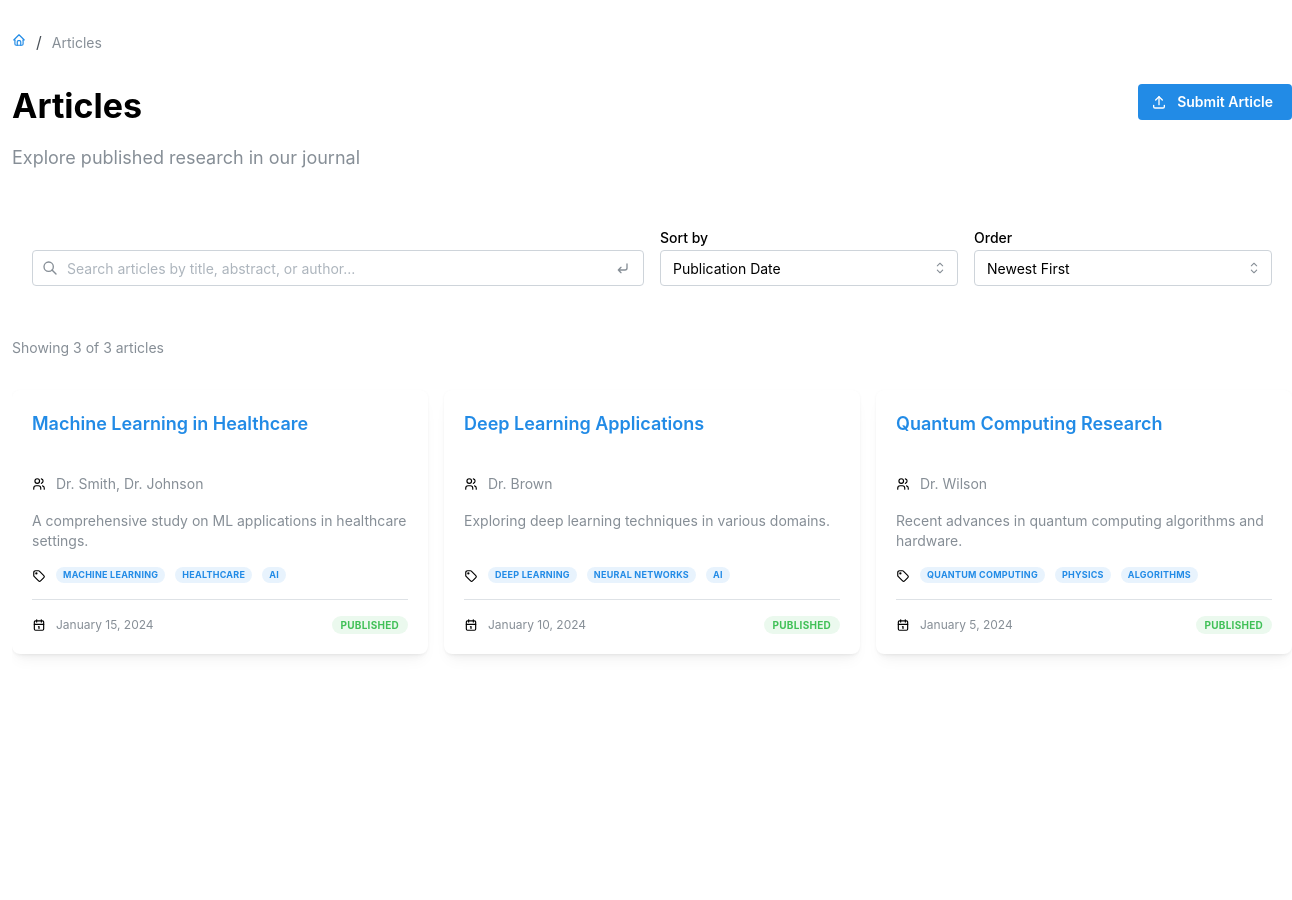
Test: Articles Page - Search Functionality › Search Results Display › should show "no articles found" when search returns empty results
The image size is (1292, 900).
Expected: the link "Machine Learning in Healthcare" is shown, x1=32 y1=413 x2=308 y2=434
Type "nonexistent term" into the field with placeholder "Search articles by title, abstract, or author...".
click(338, 268); type("nonexistent term")  # box x1=32 y1=250 x2=644 y2=286
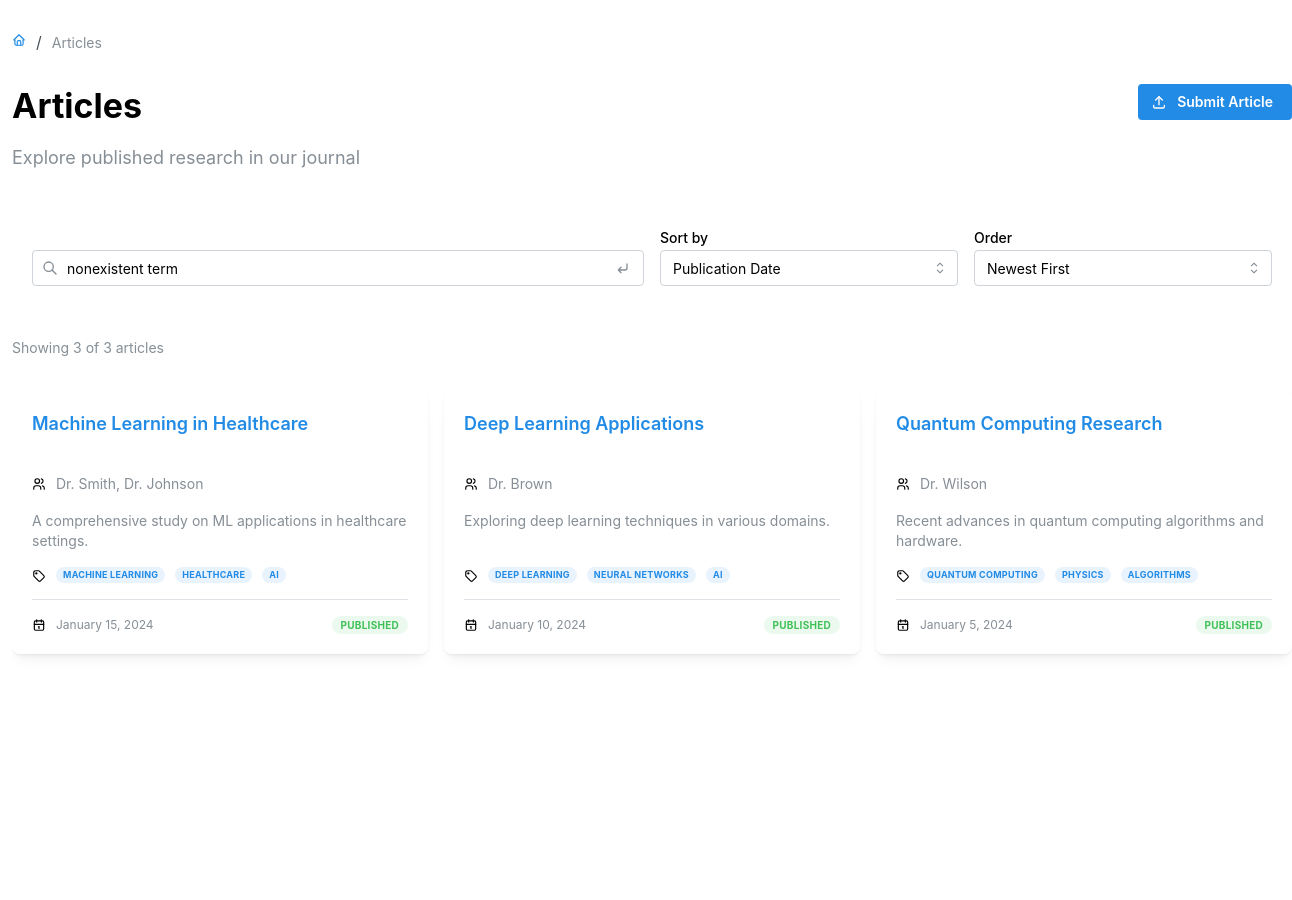
Submit the form with placeholder "Search articles by title, abstract, or author...", box x1=32 y1=217 x2=1272 y2=294
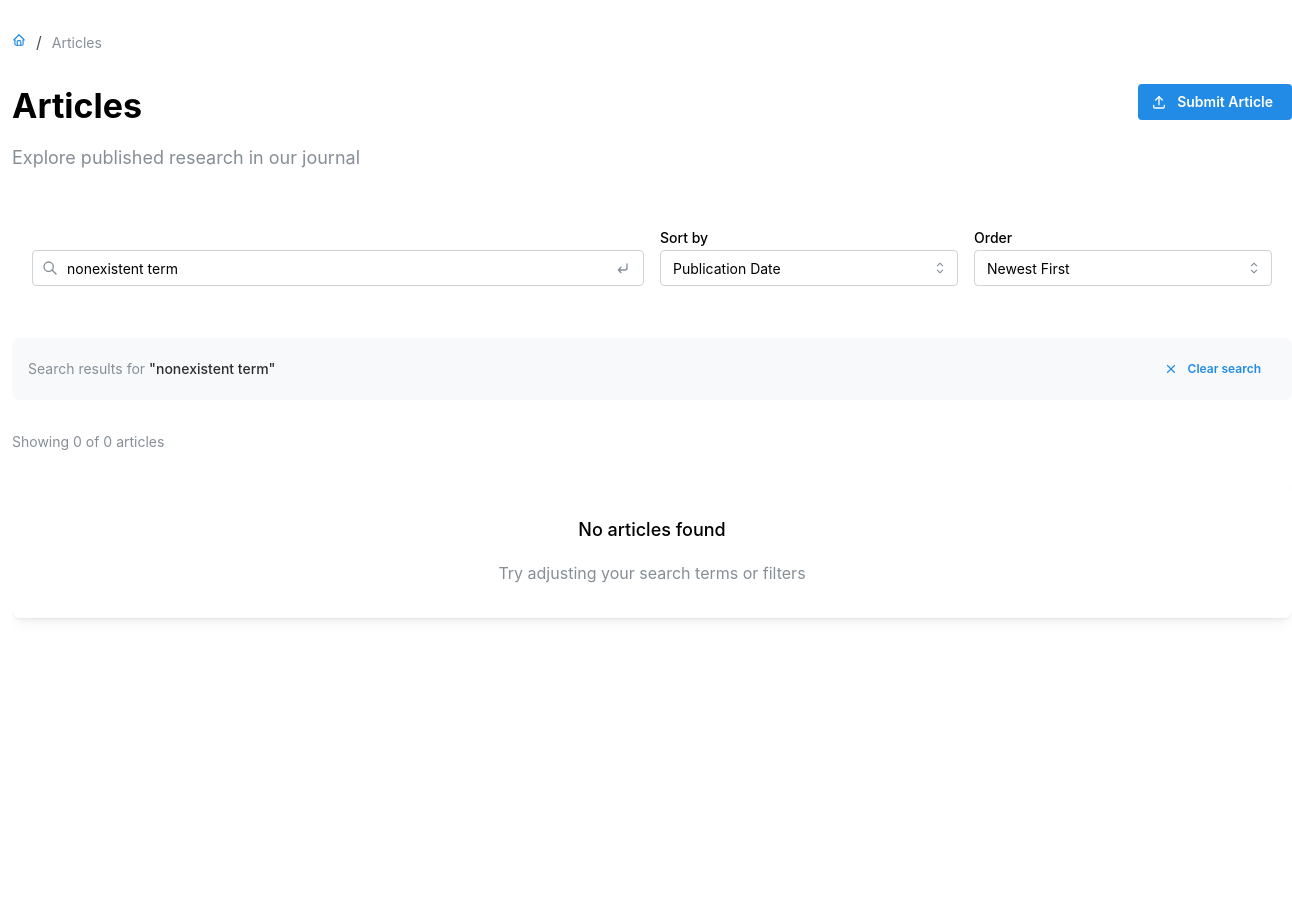
Now the text "No articles found" is shown, box x1=578 y1=516 x2=726 y2=545
Now the text "Try adjusting your search terms or filters" is shown, box x1=498 y1=561 x2=806 y2=586
Now the text "Showing 0 of 0 articles" is shown, box x1=12 y1=432 x2=164 y2=452
